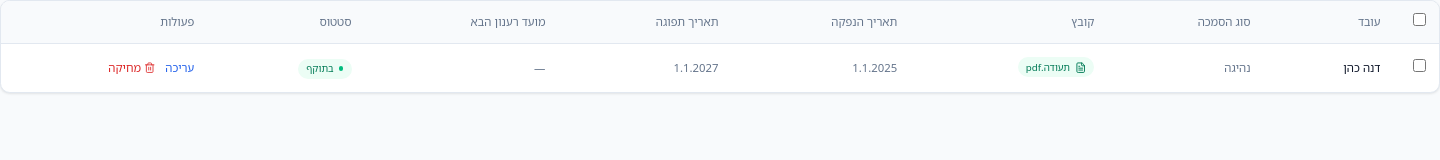
CertificationsList — file column › surfaces an error banner when getSignedUrl returns null (no permission)
This screenshot has width=1440, height=160.
Click the button with aria-label "פתח קובץ תעודה.pdf".
click(1056, 67)  # box [1018,57,1094,77]
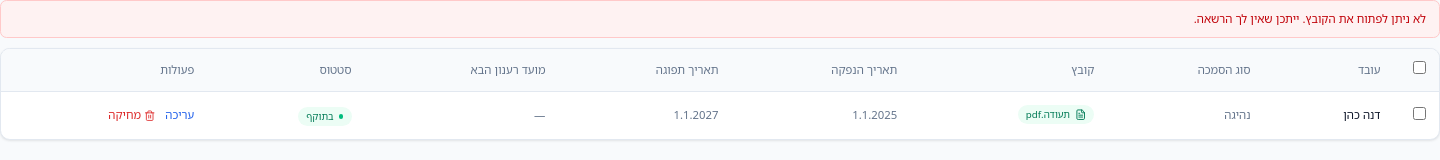
Expected: the message shows "לא ניתן לפתוח את הקובץ", [1194,11,1426,26]
